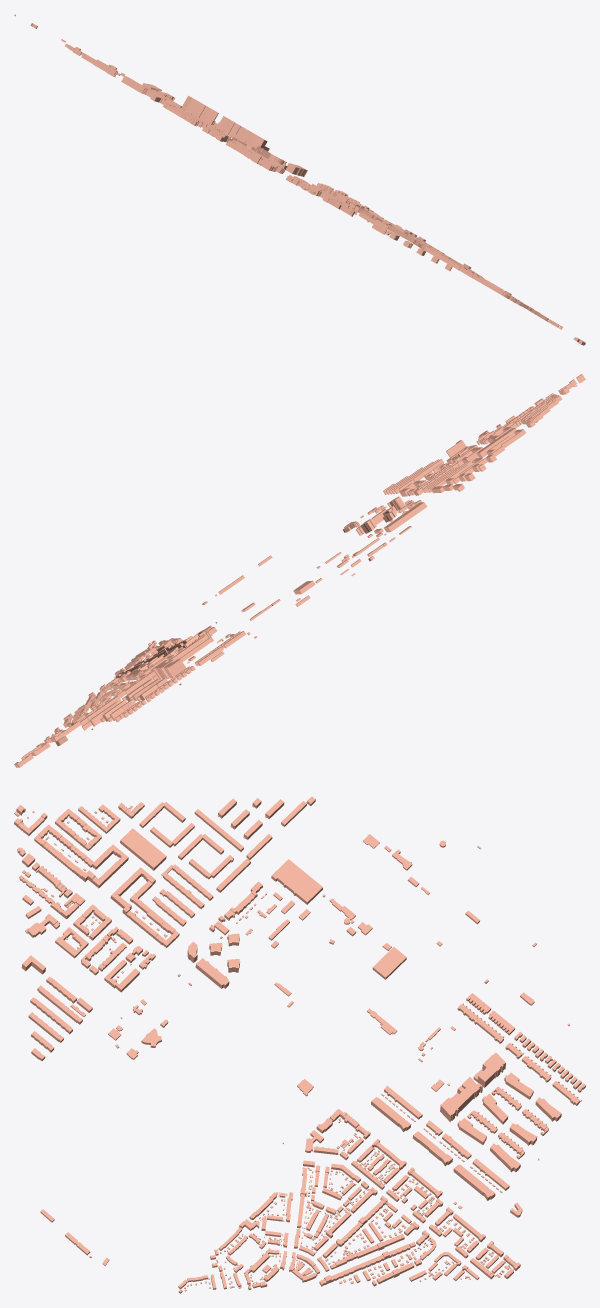
The picture shows the model from 3 angles, top to bottom: view 1: azimuth 30°, elevation 25°; view 2: azimuth 150°, elevation 25°; view 3: azimuth 270°, elevation 25°; orthographic projection. The views are drawn at different scales.
Bounding box in the file's own units: 986 × 749 × 1249.
